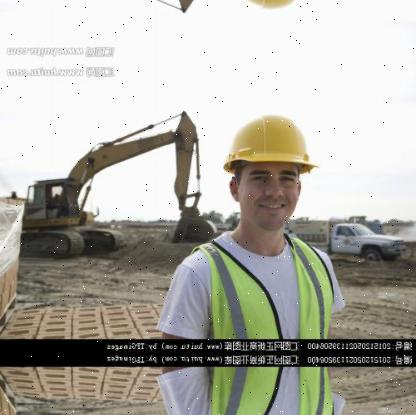helmet: (218, 102, 325, 243)
